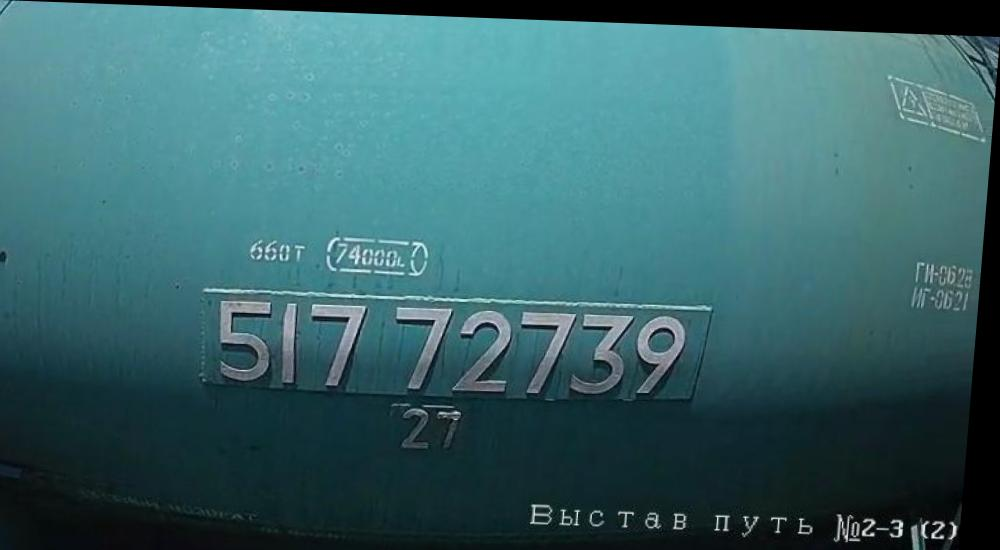Wagon-number: (211, 287, 700, 402)
